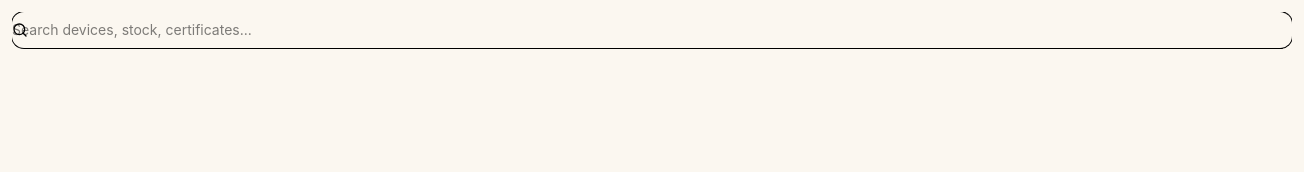
GlobalSearch — A-56 a failed search is not 'no results' › shows the failure without a reference when the body has no request id
In the field named "Global search": [652, 30] box top-left (12, 12), bottom-right (1292, 48), type "pump"
Wait 350 ms
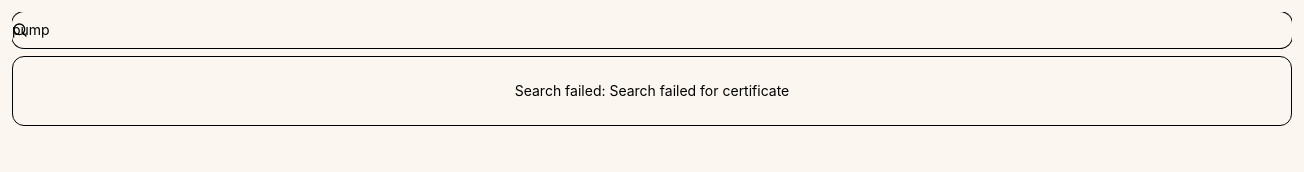
Expected: the text "Search failed: Search failed for certificate" is shown, top-left (515, 82), bottom-right (789, 99)
